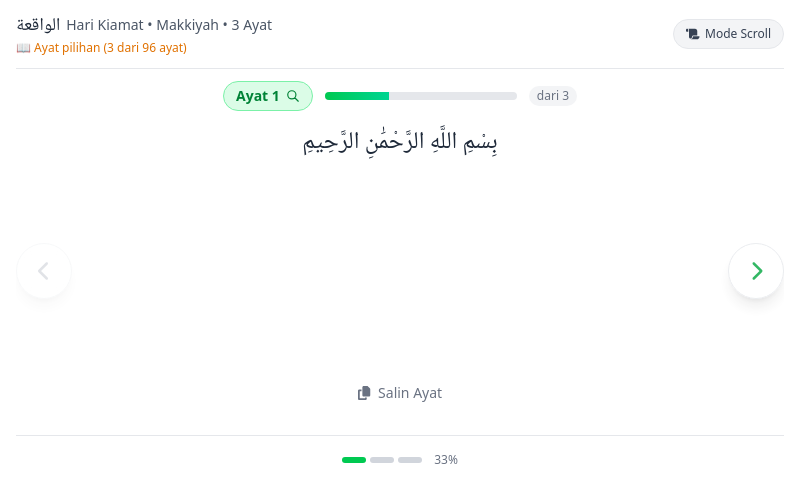
Test case: QuranReader › Completion State › should show completed message when at last ayat
# Navigate to last ayat (3rd)
Click the button named "Next ayat" at (756, 271), box [728,243,784,299]
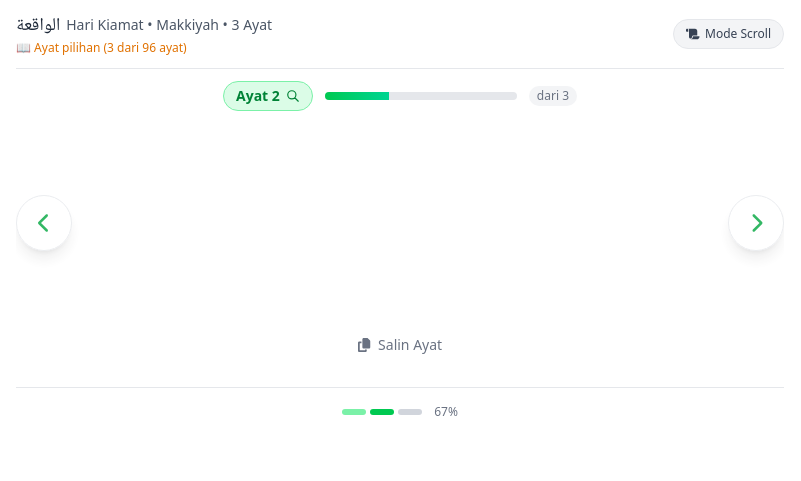
Click the button named "Next ayat" at (756, 223), box [728,195,784,251]
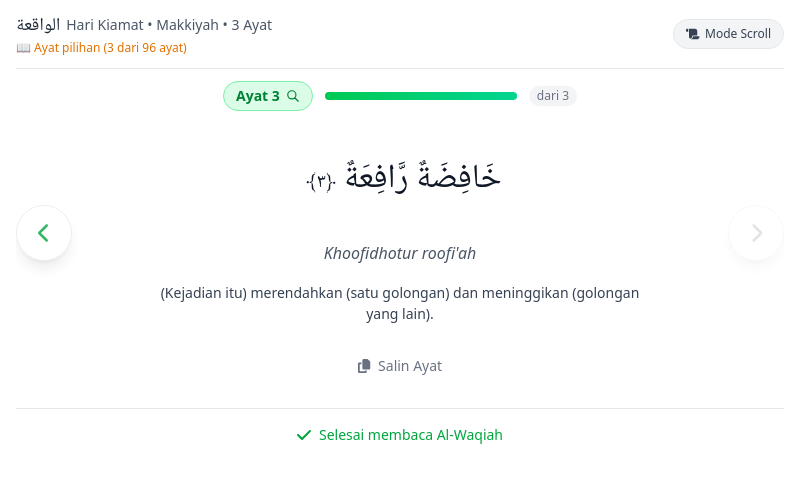
Now the text "Selesai membaca Al-Waqiah" is shown, box [319,425,503,445]
